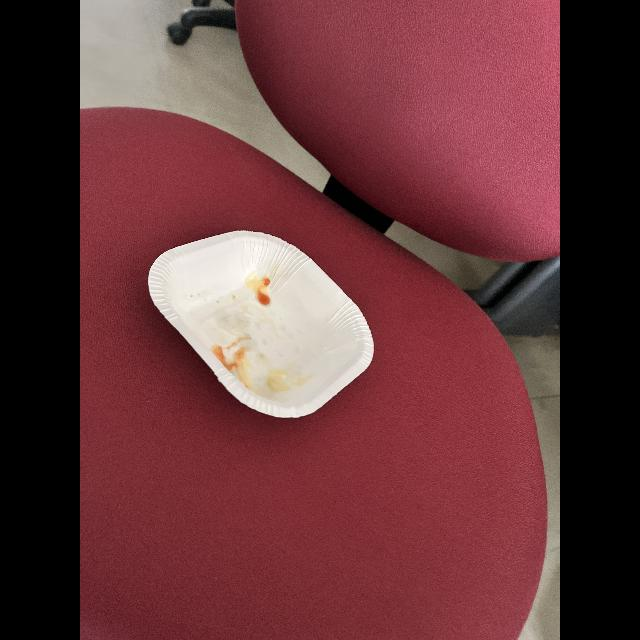cardboard_bowl: (148, 219, 378, 423)
